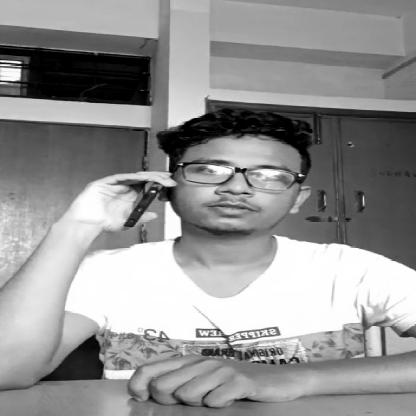Normal: (168, 122, 312, 231)
